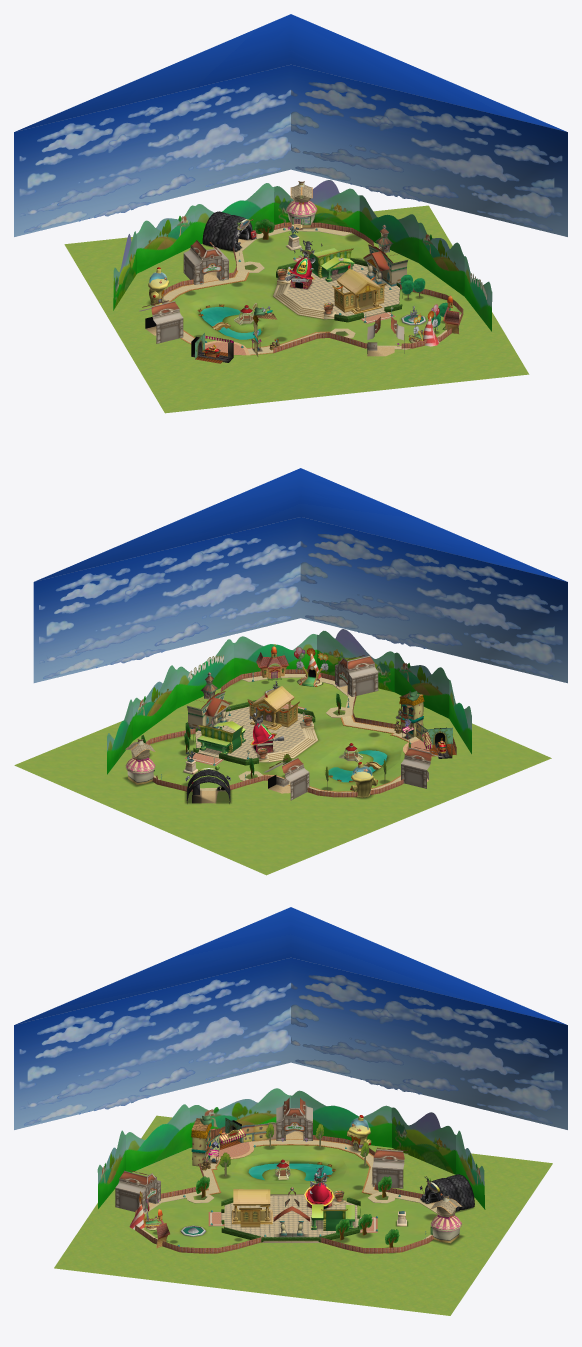
Rendered from toontown_central.glb.
3 renders of one model, top to bottom at view 1: azimuth 30°, elevation 25°; view 2: azimuth 150°, elevation 25°; view 3: azimuth 270°, elevation 25°, orthographic. The views are drawn at different scales.
Visible parts, largest first — view 1: Sky, base_grass, hill, mainFloor, o6_2, o7_2, o7_1, o6_1, plaza, tunnel_down_entrance_2 (×2), s_mid, wall_1 (+9 smaller); view 2: Sky, base_grass, hill, mainFloor, o3_2, o8_2, o3_1, o8_1, tunnel_down_entrance_2 (×3), plaza, wall_1, s_mid (+7 smaller); view 3: Sky, base_grass, hill, mainFloor, o4_2, o5_2, o5_1, o4_1, plaza, wall_1, tunnel_down_entrance_2 (×2), s_mid (+9 smaller).
Boxes of the visible parts, <box> form: Sky: <box>14,14,567,236</box>; base_grass: <box>64,205,529,413</box>; hill: <box>113,180,492,331</box>; mainFloor: <box>172,231,461,355</box>; o6_2: <box>27,96,290,227</box>; o7_2: <box>291,89,554,218</box>; o7_1: <box>291,82,562,230</box>; o6_1: <box>19,86,290,232</box>; plaza: <box>285,263,399,316</box>; tunnel_down_entrance_2 (×2): <box>139,240,228,343</box>; s_mid: <box>163,227,460,354</box>; wall_1: <box>154,222,463,353</box>; Sky: <box>33,468,567,683</box>; base_grass: <box>14,688,551,875</box>; hill: <box>107,629,471,774</box>; mainFloor: <box>149,677,408,791</box>; o3_2: <box>300,541,554,664</box>; o8_2: <box>46,547,300,674</box>; o3_1: <box>300,533,562,677</box>; o8_1: <box>39,538,300,678</box>; tunnel_down_entrance_2 (×3): <box>263,655,444,800</box>; plaza: <box>195,706,306,759</box>; wall_1: <box>146,669,403,797</box>; s_mid: <box>153,674,417,792</box>; Sky: <box>14,907,567,1129</box>; base_grass: <box>54,1115,552,1315</box>; hill: <box>97,1088,485,1209</box>; mainFloor: <box>144,1145,437,1247</box>; o4_2: <box>27,989,290,1120</box>; o5_2: <box>291,982,554,1111</box>; o5_1: <box>291,975,562,1123</box>; o4_1: <box>19,979,290,1125</box>; plaza: <box>224,1196,357,1242</box>; wall_1: <box>135,1135,433,1253</box>; tunnel_down_entrance_2 (×2): <box>115,1147,408,1211</box>; s_mid: <box>141,1139,436,1239</box>.
Size of the model in its own units: 698 by 367 by 604.
Materials: 248 (236 with a texture image).
